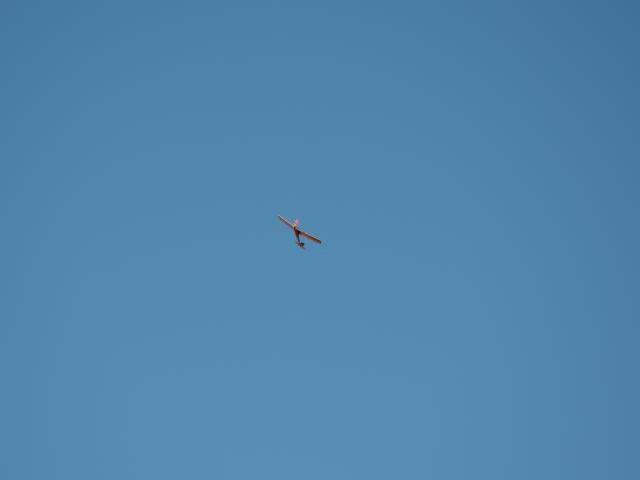iha: (277, 216, 326, 253)
